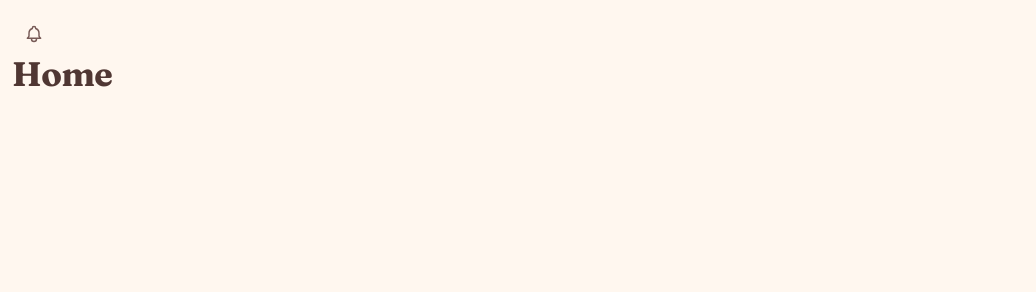
Test: PetParentNotificationPopover in Chinese › shows the empty state and the load error in Chinese
Click the button named "打开通知".
click(34, 34)  # box [12, 12, 56, 56]
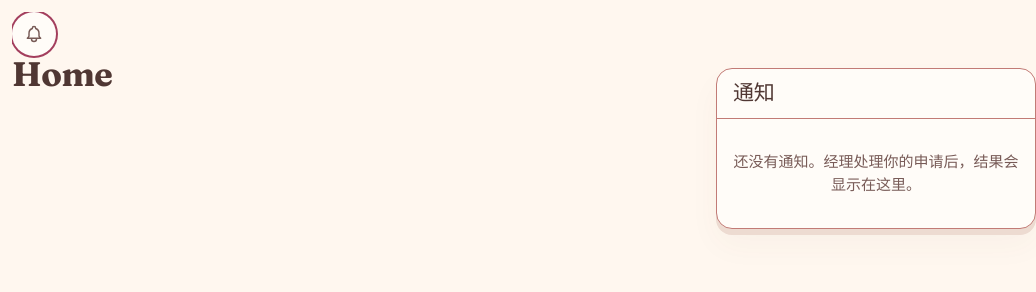
Expected: the text "还没有通知。经理处理你的申请后，结果会显示在这里。" is shown, [734, 152, 1018, 194]
Click the button named "打开通知".
click(34, 34)  # box [12, 12, 56, 56]
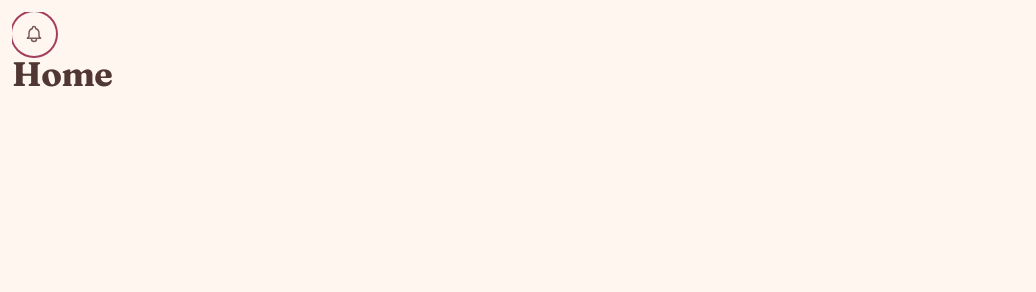
Click the button named "打开通知".
click(34, 34)  # box [12, 12, 56, 56]
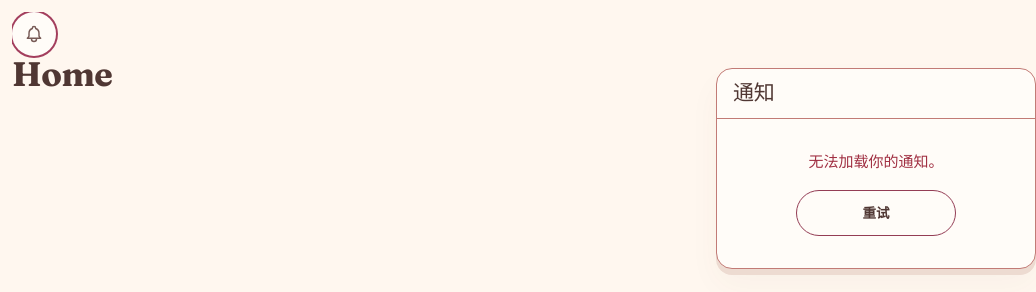
Expected: the message reads "无法加载你的通知。", [808, 152, 944, 171]
Expected: the button "重试" is shown, [796, 190, 956, 236]
